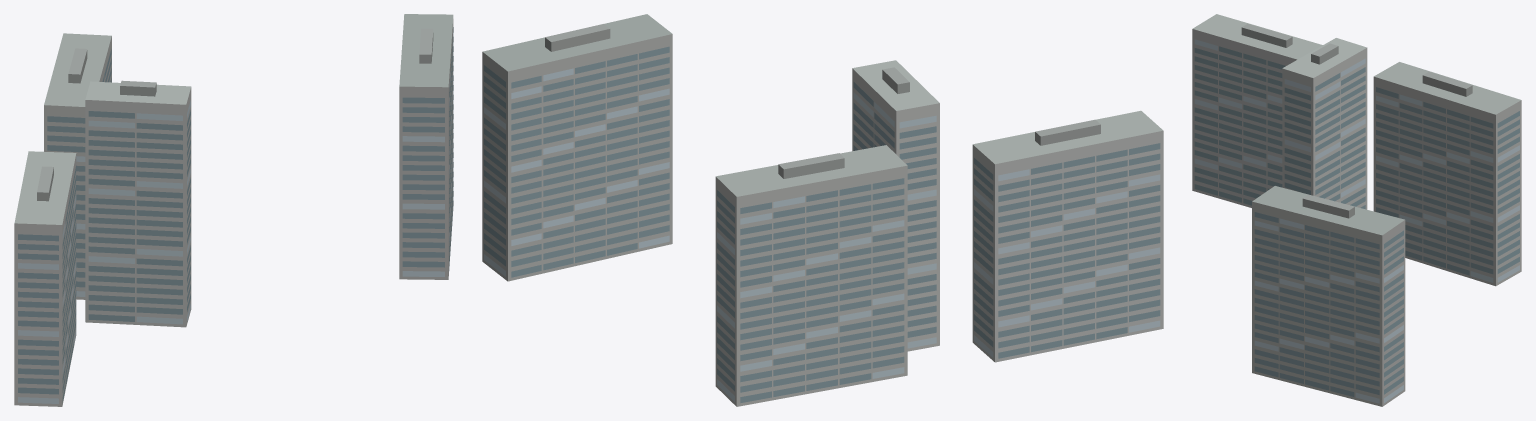
File: apt-a15384501.glb
The picture shows the model from 3 angles, left to right: view 1: azimuth 30°, elevation 25°; view 2: azimuth 150°, elevation 25°; view 3: azimuth 270°, elevation 25°; orthographic projection. The views are drawn at different scales.
Visible parts, largest first — view 1: apt-a15384501; view 2: apt-a15384501; view 3: apt-a15384501.
Part boxes in pixels (<box>): apt-a15384501: <box>14,14,453,406</box>; apt-a15384501: <box>482,14,1163,406</box>; apt-a15384501: <box>1192,14,1521,406</box>.
Bounding box in the file's own units: 149 × 62 × 89.8.
